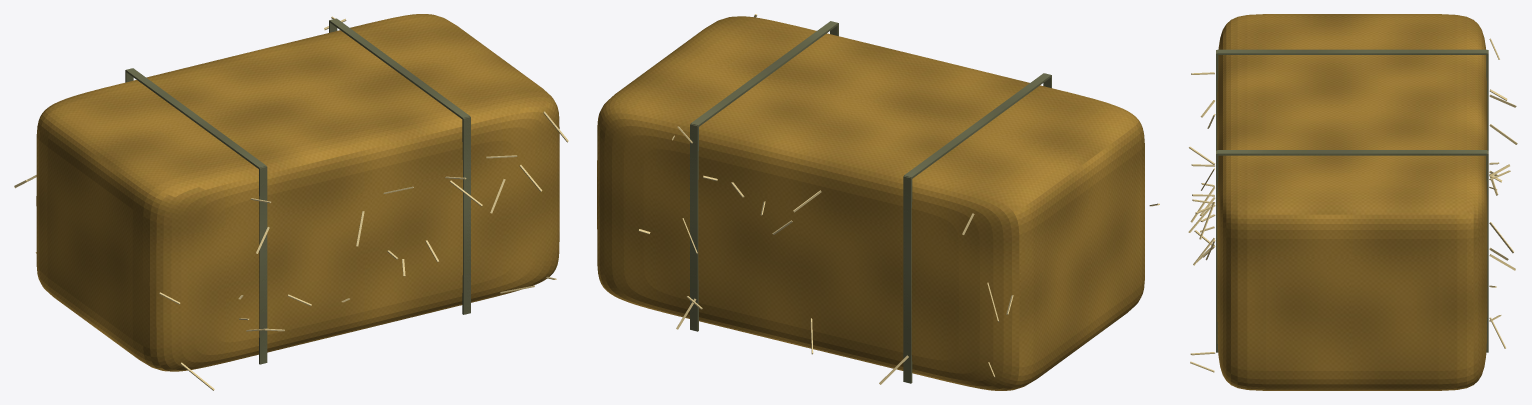
Rendered from fardo_feno.glb.
3 renders of one model, left to right at view 1: azimuth 30°, elevation 25°; view 2: azimuth 150°, elevation 25°; view 3: azimuth 270°, elevation 25°, orthographic. The views are drawn at different scales.
Visible parts, largest first — view 1: fardo_feno_feno, fardo_feno_lona, fardo_feno_palha; view 2: fardo_feno_feno, fardo_feno_lona, fardo_feno_palha; view 3: fardo_feno_feno, fardo_feno_lona, fardo_feno_palha.
Part boxes in pixels (bbox=[...]): fardo_feno_feno: bbox=[36, 14, 559, 371]; fardo_feno_lona: bbox=[125, 18, 470, 364]; fardo_feno_palha: bbox=[14, 16, 568, 390]; fardo_feno_feno: bbox=[597, 16, 1144, 390]; fardo_feno_lona: bbox=[690, 21, 1051, 383]; fardo_feno_palha: bbox=[638, 14, 1159, 384]; fardo_feno_feno: bbox=[1217, 14, 1487, 390]; fardo_feno_lona: bbox=[1216, 49, 1488, 352]; fardo_feno_palha: bbox=[1188, 38, 1517, 372].
Size of the model in its own units: 0.8994 by 0.4121 by 0.6095.
3 materials, 2 textured.
